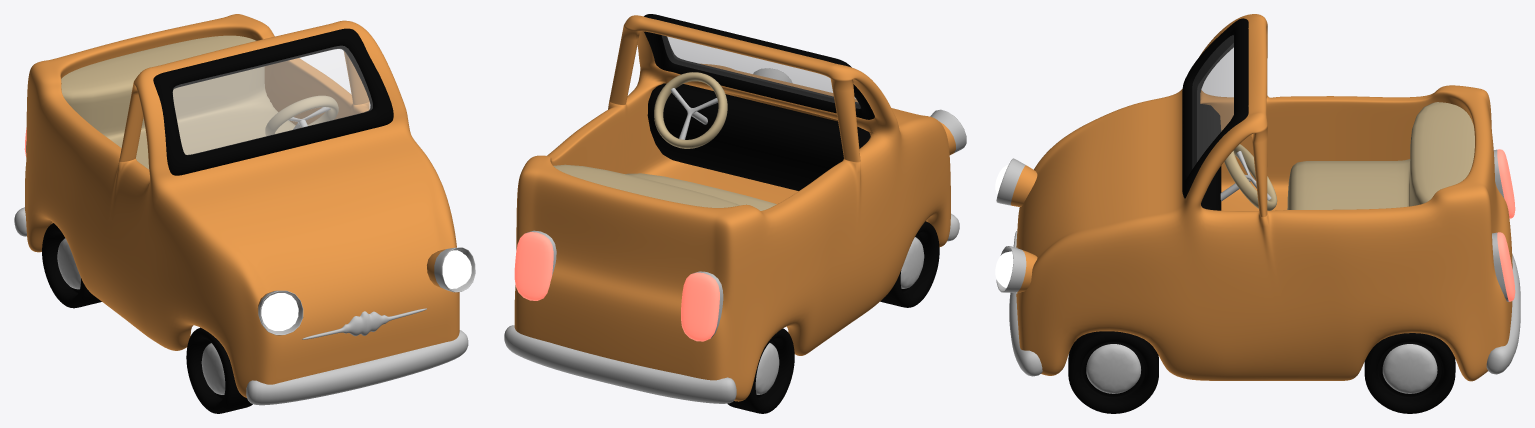
File: cute_car.glb
3 renders of one model, left to right at view 1: azimuth 30°, elevation 25°; view 2: azimuth 150°, elevation 25°; view 3: azimuth 270°, elevation 25°, orthographic. The views are drawn at different scales.
Visible parts, largest first — view 1: Cube, Cube.003, Cube.009, Cube.002, Cube.007, Cube.005, roue, roue.001, Circle, Cube.006; view 2: Cube, Cube.010, Cube.008, Cube.004, Cube.002, Cube.003, Cube.009, roue.001, roue, Circle, Cube.005, Cube.011; view 3: Cube, Cube.009, roue, roue.001, Cube.002, Cube.003, Cube.005, Cube.004, Cube.010, Cube.008, Circle, Cube.007.
Boxes of the visible parts, x1=… form: Cube: x1=25, y1=14, x2=459, y2=397; Cube.003: x1=173, y1=46, x2=372, y2=154; Cube.009: x1=61, y1=35, x2=295, y2=169; Cube.002: x1=153, y1=28, x2=393, y2=175; Cube.007: x1=246, y1=330, x2=468, y2=405; Cube.005: x1=257, y1=247, x2=475, y2=335; roue: x1=186, y1=327, x2=252, y2=413; roue.001: x1=42, y1=223, x2=101, y2=308; Circle: x1=265, y1=95, x2=338, y2=136; Cube.006: x1=302, y1=308, x2=426, y2=339; Cube: x1=514, y1=15, x2=950, y2=401; Cube.010: x1=647, y1=83, x2=870, y2=190; Cube.008: x1=504, y1=325, x2=736, y2=403; Cube.004: x1=514, y1=230, x2=723, y2=341; Cube.002: x1=644, y1=14, x2=874, y2=119; Cube.003: x1=662, y1=35, x2=860, y2=108; Cube.009: x1=553, y1=164, x2=776, y2=210; roue.001: x1=727, y1=328, x2=794, y2=413; roue: x1=880, y1=221, x2=939, y2=307; Circle: x1=654, y1=72, x2=727, y2=148; Cube.005: x1=753, y1=68, x2=966, y2=154; Cube.011: x1=670, y1=88, x2=717, y2=139; Cube: x1=1016, y1=14, x2=1512, y2=381; Cube.009: x1=1287, y1=102, x2=1474, y2=209; roue: x1=1068, y1=331, x2=1158, y2=413; roue.001: x1=1364, y1=333, x2=1455, y2=413; Cube.002: x1=1182, y1=18, x2=1248, y2=198; Cube.003: x1=1192, y1=35, x2=1233, y2=168; Cube.005: x1=995, y1=158, x2=1037, y2=292; Cube.004: x1=1492, y1=149, x2=1515, y2=301; Cube.010: x1=1200, y1=104, x2=1221, y2=210; Cube.008: x1=1486, y1=254, x2=1520, y2=374; Circle: x1=1224, y1=144, x2=1277, y2=210; Cube.007: x1=1009, y1=292, x2=1042, y2=376.
Size of the model in its own units: 2.82 by 3.01 by 4.85.
